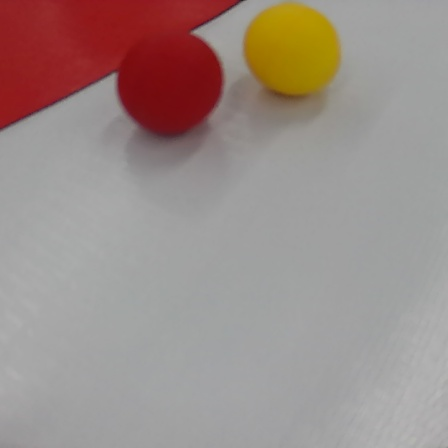red: (118, 31, 225, 136)
red_base: (0, 0, 247, 133)
yellow: (242, 1, 345, 98)
